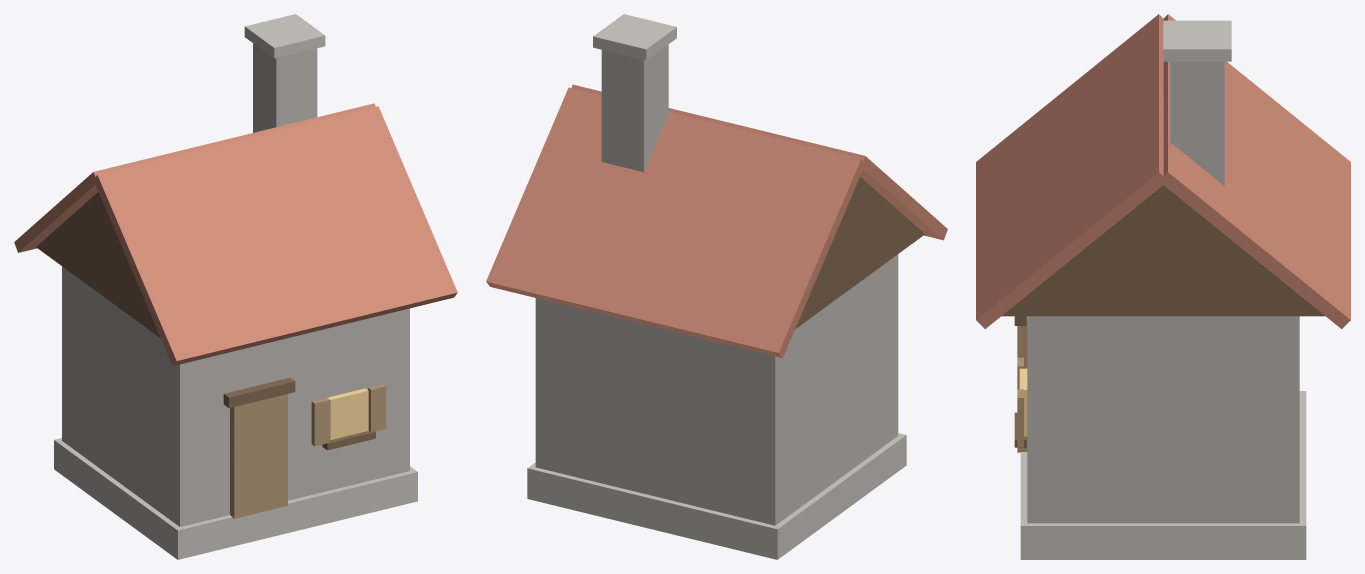
Rendered from cottage_f.glb.
3 renders of one model, left to right at view 1: azimuth 30°, elevation 25°; view 2: azimuth 150°, elevation 25°; view 3: azimuth 270°, elevation 25°, orthographic. The views are drawn at different scales.
Parts seen in each view (by area): view 1: Cube.002, Cube.001, Cube, Cube.006, hastial, Cube.004, Cube.003, Cube.005, Cube.008, Cube.007, Cube.010, Cube.011; view 2: Cube.001, Cube.003, Cube, Cube.004, hastial, Cube.002, Cube.005; view 3: Cube.001, Cube.002, Cube.003, hastial.001, Cube, Cube.004, Cube.005, Cube.006.
Part boxes in pixels (left/top/right/bottom): Cube.002: left=93, top=106, right=457, bottom=365; Cube.001: left=62, top=266, right=409, bottom=526; Cube: left=54, top=438, right=417, bottom=559; Cube.006: left=230, top=394, right=287, bottom=518; hastial: left=36, top=192, right=160, bottom=338; Cube.004: left=253, top=43, right=317, bottom=132; Cube.003: left=14, top=103, right=375, bottom=252; Cube.005: left=244, top=14, right=325, bottom=58; Cube.008: left=327, top=388, right=368, bottom=440; Cube.007: left=223, top=377, right=295, bottom=408; Cube.010: left=311, top=398, right=329, bottom=446; Cube.011: left=368, top=384, right=386, bottom=431; Cube.001: left=535, top=254, right=898, bottom=525; Cube.003: left=486, top=87, right=864, bottom=358; Cube: left=527, top=433, right=906, bottom=559; Cube.004: left=601, top=44, right=668, bottom=172; hastial: left=795, top=176, right=924, bottom=329; Cube.002: left=571, top=84, right=947, bottom=240; Cube.005: left=593, top=14, right=676, bottom=60; Cube.001: left=1027, top=316, right=1299, bottom=523; Cube.002: left=976, top=14, right=1167, bottom=328; Cube.003: left=1160, top=14, right=1350, bottom=328; hastial.001: left=1001, top=185, right=1325, bottom=316; Cube: left=1020, top=391, right=1306, bottom=559; Cube.004: left=1170, top=61, right=1224, bottom=185; Cube.005: left=1163, top=20, right=1231, bottom=61; Cube.006: left=1017, top=316, right=1027, bottom=452.
Size of the model in its own units: 2.2 by 3.2 by 2.2.
